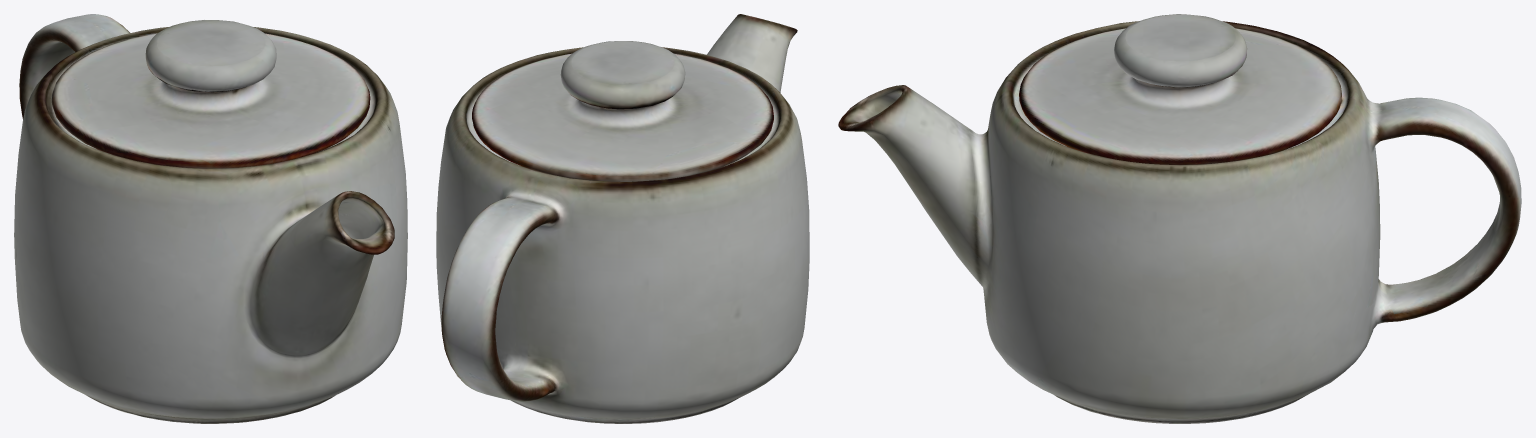
File: gladelig_czajniczek_00537548.glb
3 renders of one model, left to right at view 1: azimuth 30°, elevation 25°; view 2: azimuth 150°, elevation 25°; view 3: azimuth 270°, elevation 25°, orthographic. The views are drawn at different scales.
Parts seen in each view (by area): view 1: gladelig_czajniczek_00537548; view 2: gladelig_czajniczek_00537548; view 3: gladelig_czajniczek_00537548.
Part boxes in pixels (x1,y1,x2,y2): gladelig_czajniczek_00537548: (14,14,407,423); gladelig_czajniczek_00537548: (436,14,809,423); gladelig_czajniczek_00537548: (838,14,1521,423).
Size of the model in its own units: 0.1445 by 0.1297 by 0.2472.
1 material, 1 textured.
